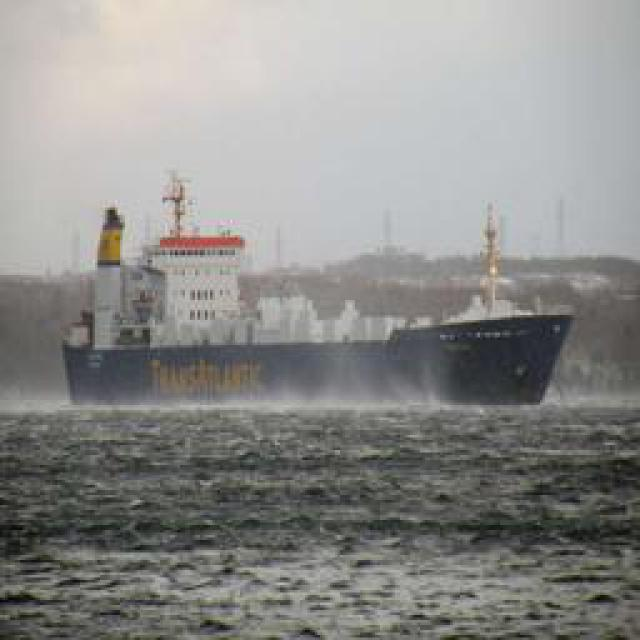Ship: (66, 300, 574, 410)
